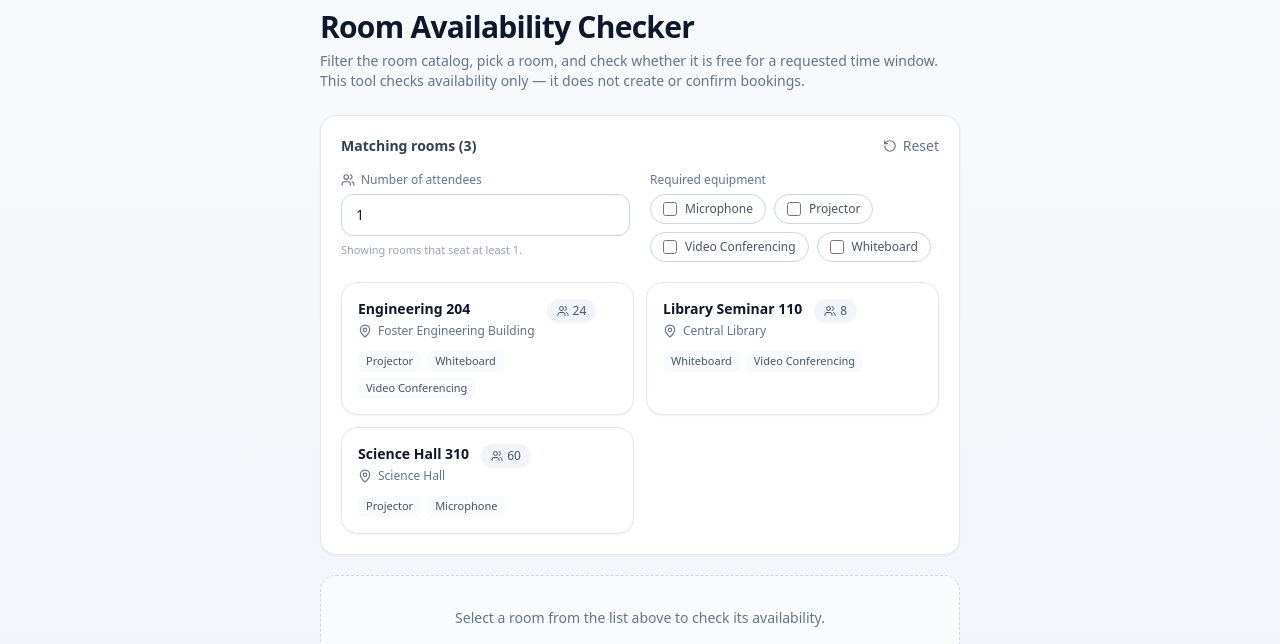
F4-F5: UI & Integration Tests › Test 11: Unsuccessful availability check updates UI
This screenshot has width=1280, height=644.
Click the button "Engineering 204": (488, 348) top-left (341, 282), bottom-right (634, 415)
(page scrolled)
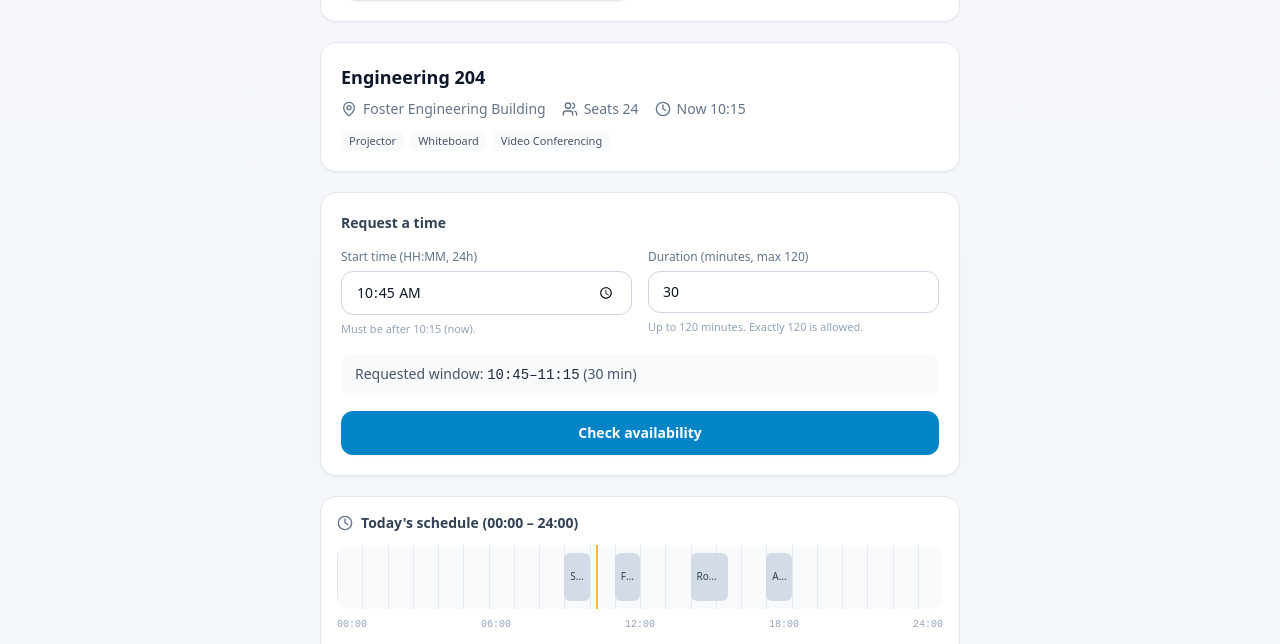
Replace the text in the time field labelled "Start time (HH:MM, 24h)" with "11:00": (486, 293) top-left (341, 271), bottom-right (632, 315)
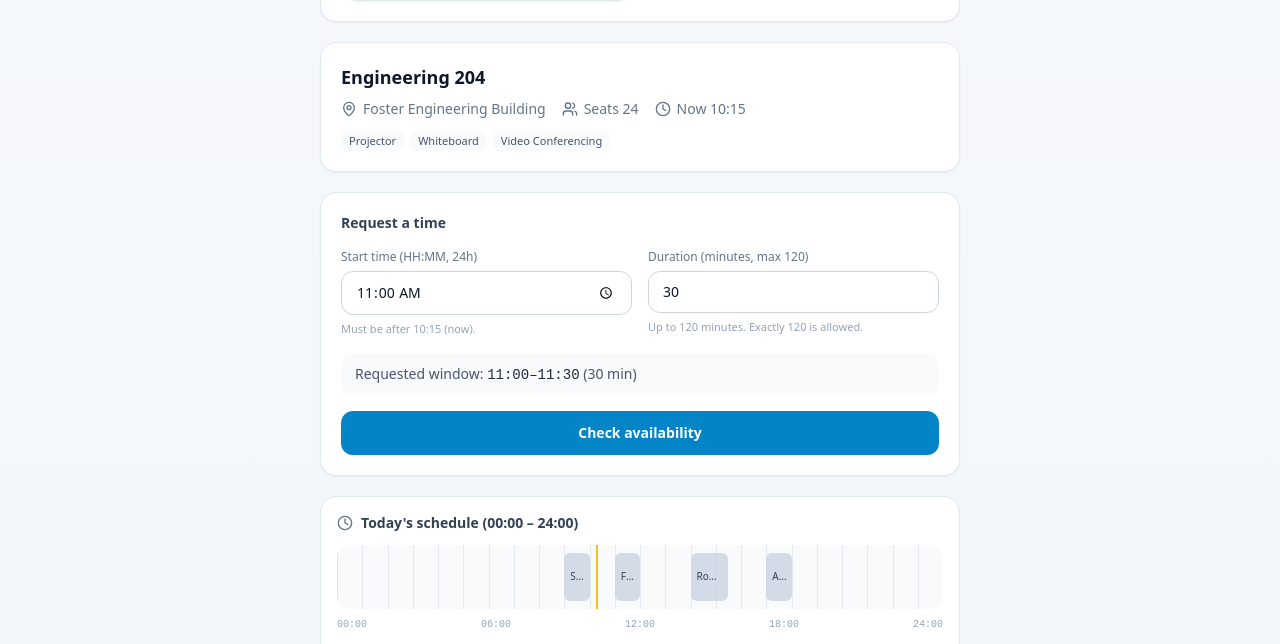
Click the button "Check availability": (640, 432) top-left (341, 410), bottom-right (939, 454)
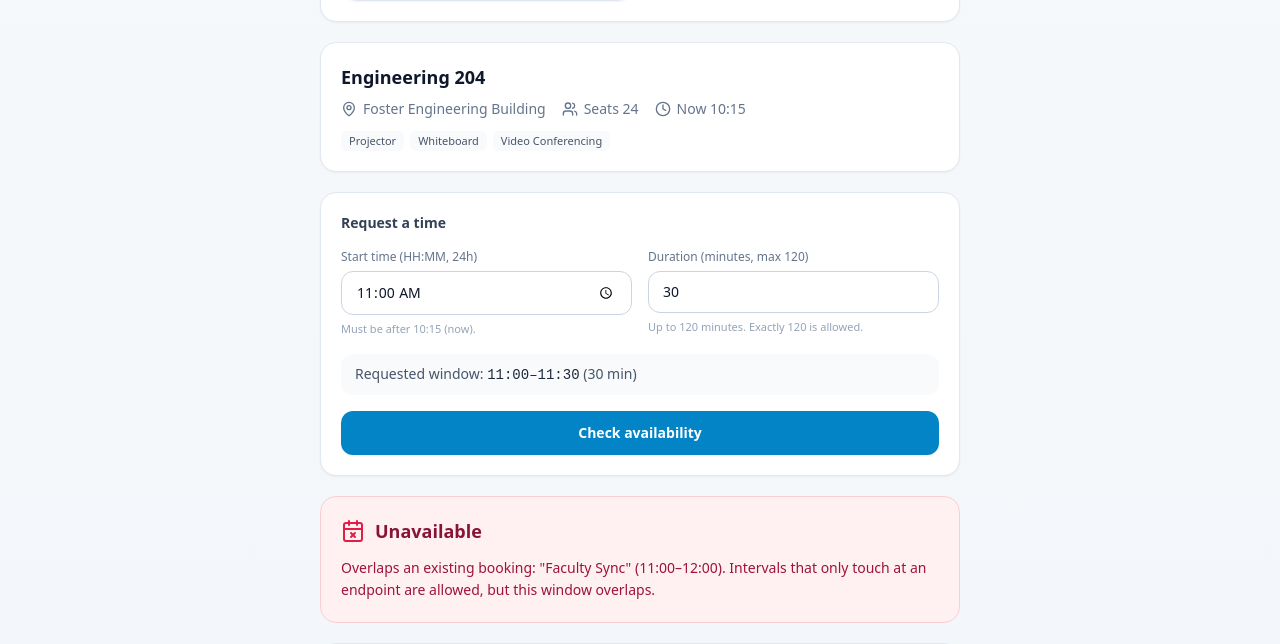
Expected: the message shows "Unavailable", top-left (375, 518), bottom-right (482, 542)
